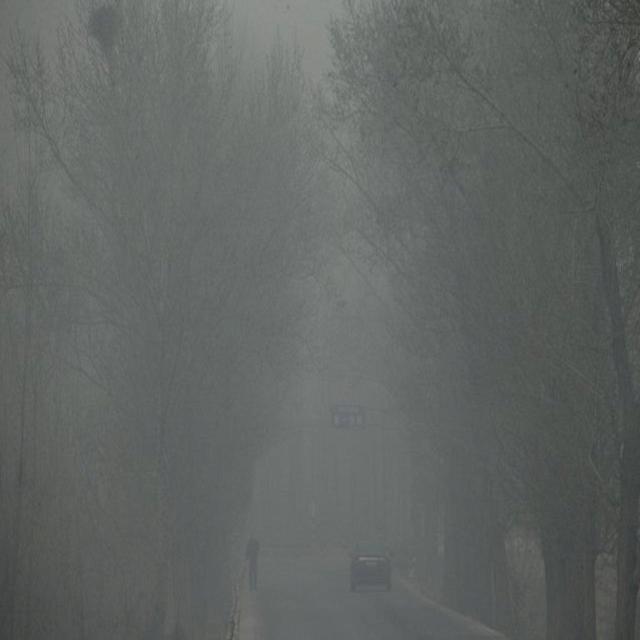Car: (347, 537, 400, 592)
